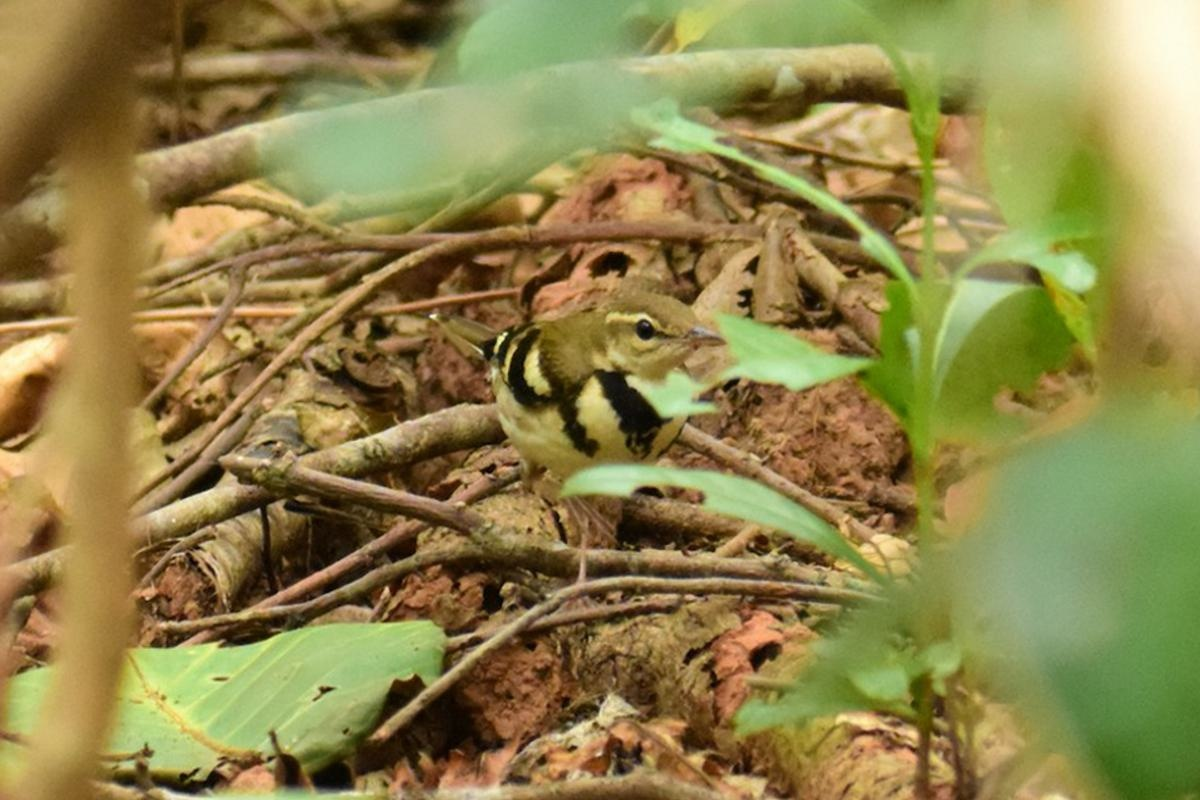wagtail: (451, 280, 783, 495)
